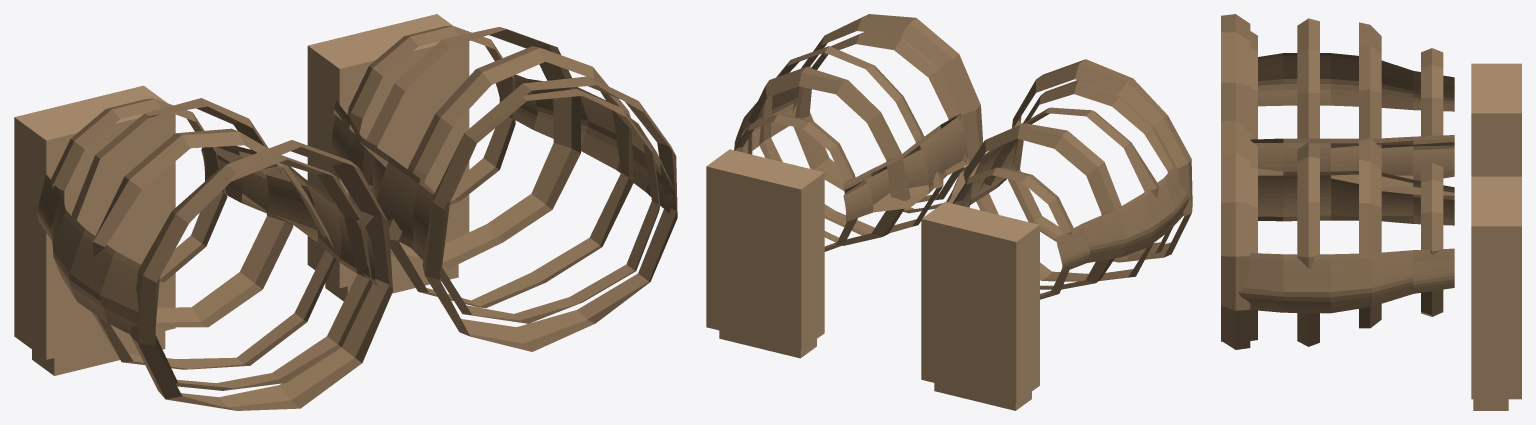
File: boots_strapped.glb
The picture shows the model from 3 angles, left to right: view 1: azimuth 30°, elevation 25°; view 2: azimuth 150°, elevation 25°; view 3: azimuth 270°, elevation 25°; orthographic projection. The views are drawn at different scales.
Parts seen in each view (by area): view 1: LowerLegR, LowerLegL, FootR, FootL; view 2: LowerLegL, LowerLegR, FootL, FootR; view 3: LowerLegL, LowerLegR, FootL, FootR.
Part boxes in pixels (left/top/right/bottom): LowerLegR: left=37, top=98, right=392, bottom=410; LowerLegL: left=332, top=26, right=677, bottom=351; FootR: left=14, top=85, right=175, bottom=375; FootL: left=307, top=14, right=469, bottom=301; LowerLegL: left=734, top=14, right=983, bottom=251; LowerLegR: left=946, top=59, right=1192, bottom=299; FootL: left=706, top=149, right=824, bottom=358; FootR: left=921, top=202, right=1039, bottom=410; LowerLegL: left=1221, top=121, right=1454, bottom=349; LowerLegR: left=1221, top=14, right=1454, bottom=180; FootL: left=1471, top=176, right=1521, bottom=410; FootR: left=1471, top=63, right=1521, bottom=176.
Size of the model in its own units: 0.9005 by 0.5045 by 0.536.
